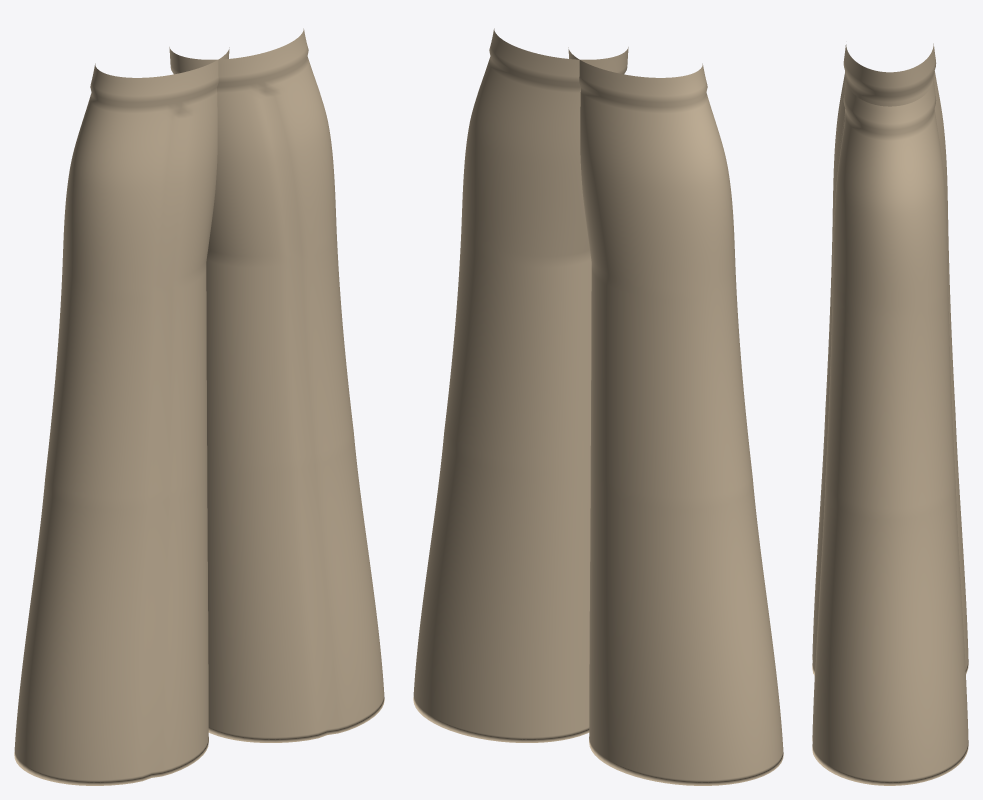
File: calca-pantalona.glb
3 views of the same model, side by side, from view 1: azimuth 30°, elevation 25°; view 2: azimuth 150°, elevation 25°; view 3: azimuth 270°, elevation 25° (orthographic). The views are drawn at different scales.
Visible parts, largest first — view 1: calca-pantalona; view 2: calca-pantalona; view 3: calca-pantalona.
Boxes of the visible parts, bbox=[...] form: calca-pantalona: bbox=[14, 28, 384, 785]; calca-pantalona: bbox=[413, 28, 783, 785]; calca-pantalona: bbox=[812, 43, 968, 785].
Bounding box in the file's own units: 0.54 × 1 × 0.2198.
